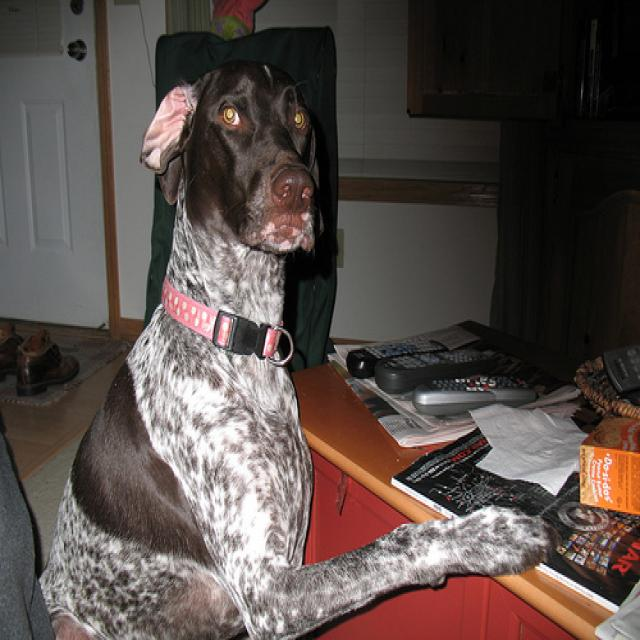dog-german_shorthaired: (32, 56, 563, 637)
